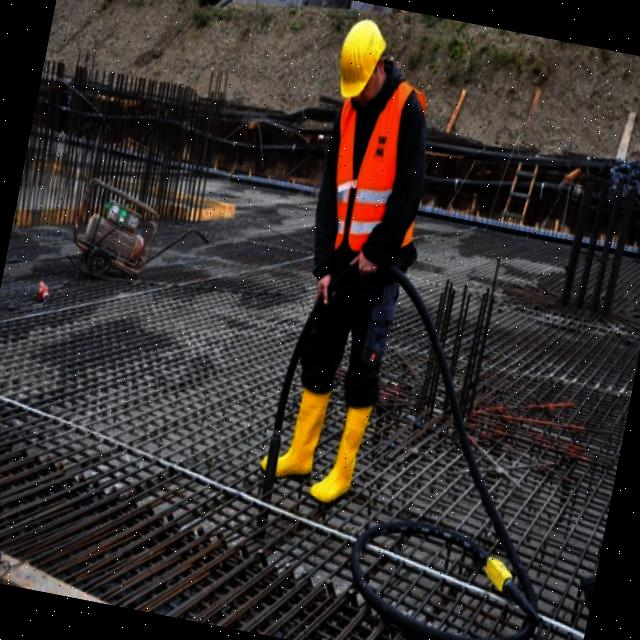Helmet: (332, 16, 395, 112)
Jacket: (324, 80, 425, 267)
